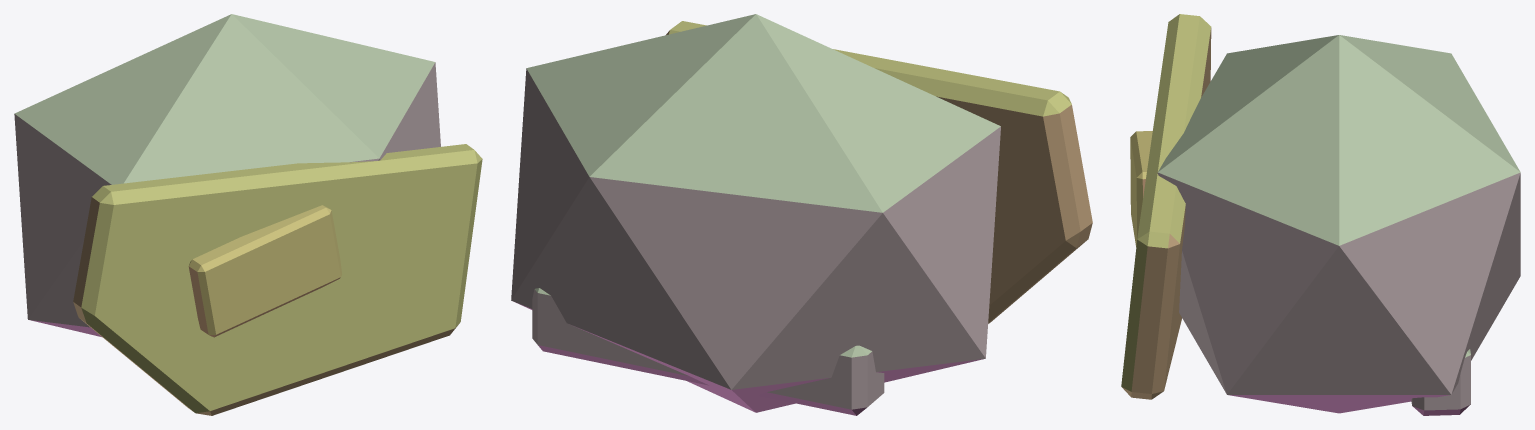
The model's file is npc_module_pauldron_raider_v01.glb.
3 views of the same model, side by side, from view 1: azimuth 30°, elevation 25°; view 2: azimuth 150°, elevation 25°; view 3: azimuth 270°, elevation 25° (orthographic). The views are drawn at different scales.
Parts seen in each view (by area): view 1: GEO_npc_module_pauldron_raider_v01; view 2: GEO_npc_module_pauldron_raider_v01; view 3: GEO_npc_module_pauldron_raider_v01.
Part boxes in pixels (x1=…): GEO_npc_module_pauldron_raider_v01: x1=14, y1=14, x2=482, y2=415; GEO_npc_module_pauldron_raider_v01: x1=511, y1=14, x2=1092, y2=415; GEO_npc_module_pauldron_raider_v01: x1=1121, y1=14, x2=1520, y2=415.
Bounding box in the file's own units: 1.17 × 0.92 × 0.8799.
